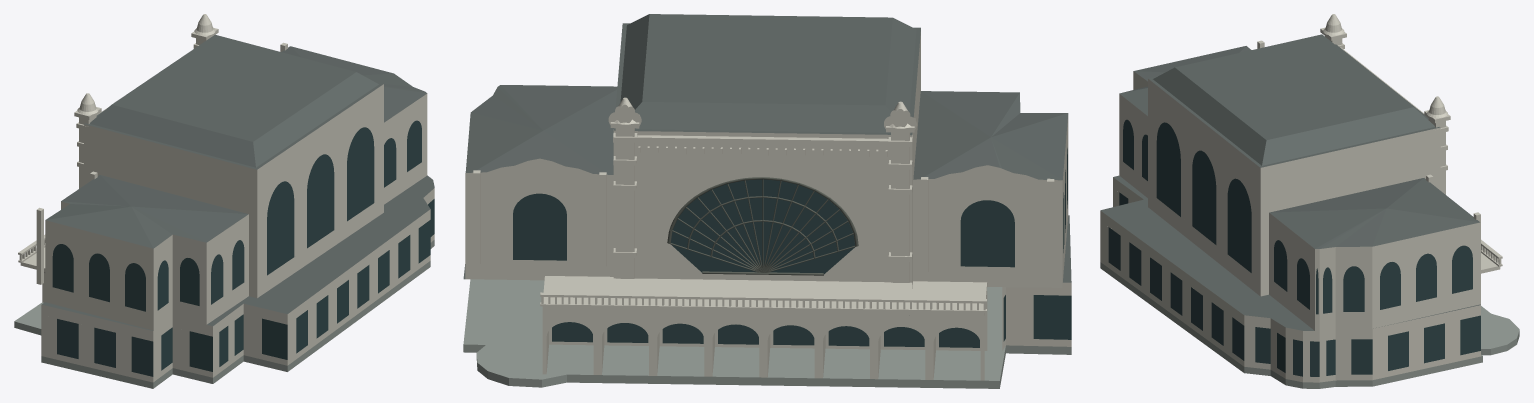
File: constanta-casino-near.glb
The picture shows the model from 3 angles, left to right: view 1: azimuth 30°, elevation 25°; view 2: azimuth 150°, elevation 25°; view 3: azimuth 270°, elevation 25°; orthographic projection. The views are drawn at different scales.
Visible parts, largest first — view 1: constanta-casino-0-stone, constanta-casino-0-roof, constanta-casino-0-glass, constanta-casino-0-base; view 2: constanta-casino-0-stone, constanta-casino-0-roof, constanta-casino-0-glass, constanta-casino-0-base, constanta-casino-0-frame; view 3: constanta-casino-0-stone, constanta-casino-0-roof, constanta-casino-0-glass, constanta-casino-0-base.
Part boxes in pixels (box(x1,y1,x2,y2)): constanta-casino-0-stone: box(18, 14, 434, 382); constanta-casino-0-roof: box(42, 34, 434, 330); constanta-casino-0-glass: box(52, 120, 434, 376); constanta-casino-0-base: box(14, 240, 434, 388); constanta-casino-0-stone: box(465, 32, 1071, 380); constanta-casino-0-roof: box(463, 14, 1071, 282); constanta-casino-0-glass: box(513, 148, 1071, 347); constanta-casino-0-base: box(463, 279, 1071, 388); constanta-casino-0-frame: box(667, 177, 858, 275); constanta-casino-0-stone: box(1100, 14, 1502, 382); constanta-casino-0-roof: box(1100, 34, 1480, 330); constanta-casino-0-glass: box(1108, 119, 1480, 376); constanta-casino-0-base: box(1100, 262, 1519, 388).
Bounding box in the file's own units: 54.94 × 26.5 × 47.3.
